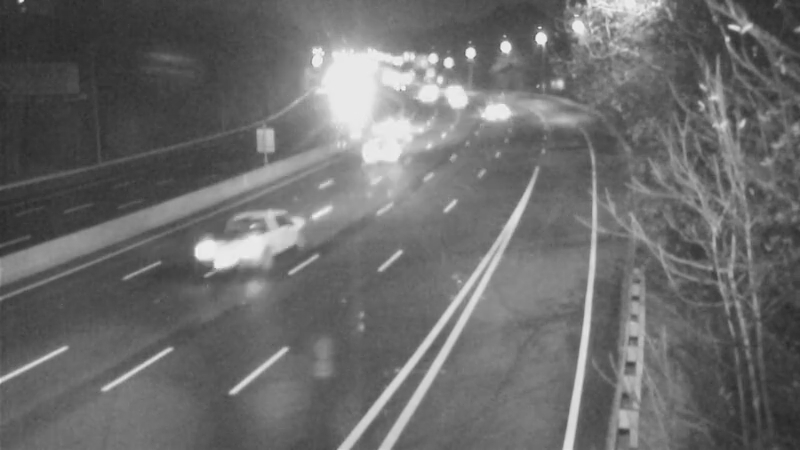vehicle: (194, 212, 274, 292), (474, 86, 524, 136), (381, 99, 431, 149), (353, 125, 403, 175)
